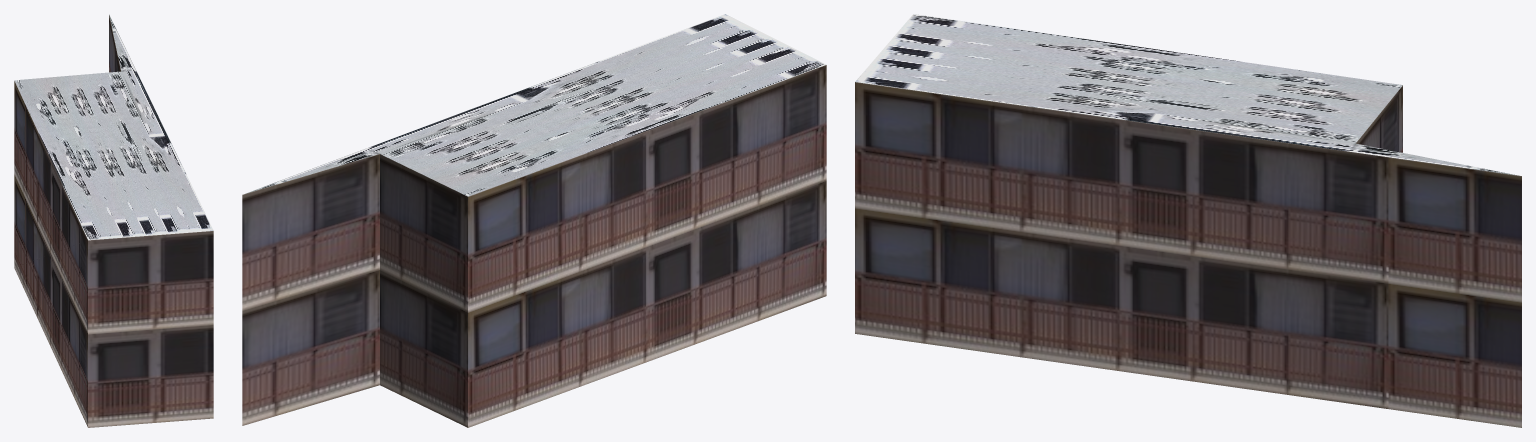
File: ResTex__388.fbx
The picture shows the model from 3 angles, left to right: view 1: azimuth 30°, elevation 25°; view 2: azimuth 150°, elevation 25°; view 3: azimuth 270°, elevation 25°; orthographic projection. The views are drawn at different scales.
Visible parts, largest first — view 1: CityEngineMaterial_6_m, CityEngineMaterial_4_m; view 2: CityEngineMaterial_6_m, CityEngineMaterial_4_m; view 3: CityEngineMaterial_6_m, CityEngineMaterial_4_m.
Part boxes in pixels (x1,y1,x2,y2): CityEngineMaterial_6_m: [14, 15, 213, 427]; CityEngineMaterial_4_m: [14, 15, 213, 240]; CityEngineMaterial_6_m: [242, 65, 826, 427]; CityEngineMaterial_4_m: [245, 14, 826, 196]; CityEngineMaterial_6_m: [855, 82, 1521, 427]; CityEngineMaterial_4_m: [855, 14, 1518, 175].
Bounding box in the file's own units: 8.29 × 6 × 14.4.
2 materials, 2 textured.
